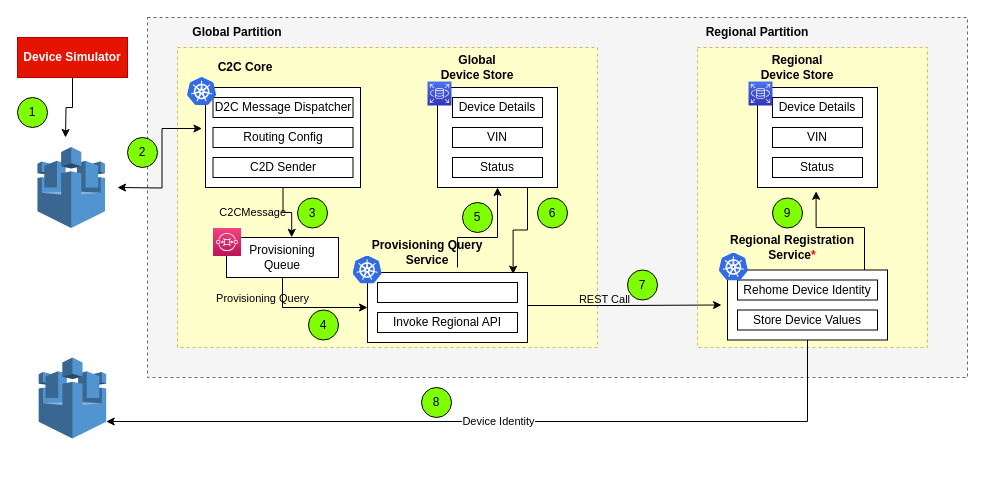
Some shapes in this 985 by 492 pixel diagram are drawn without their labels. The centre of each missing label's shape, as x and y in pixels:
Global IoT Gateway: point 70,187
Regional IoT Gateway: point 72,397
Validate Query: point 447,292
